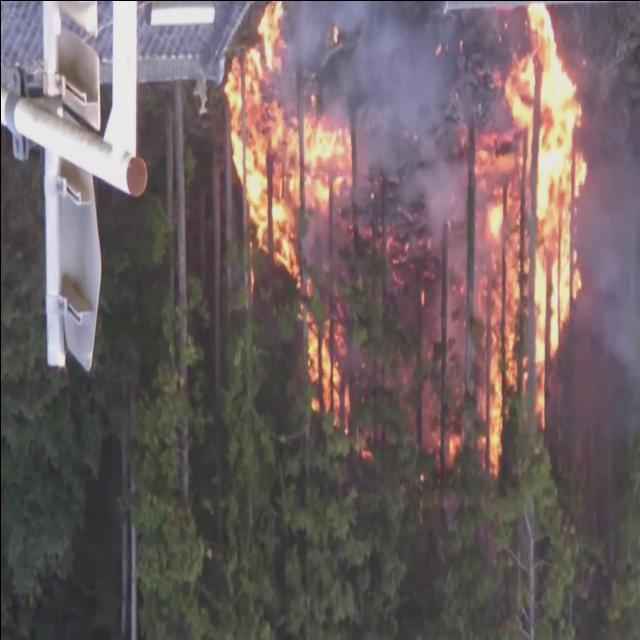Fire: (471, 2, 596, 478), (223, 2, 351, 434), (447, 438, 457, 456)
